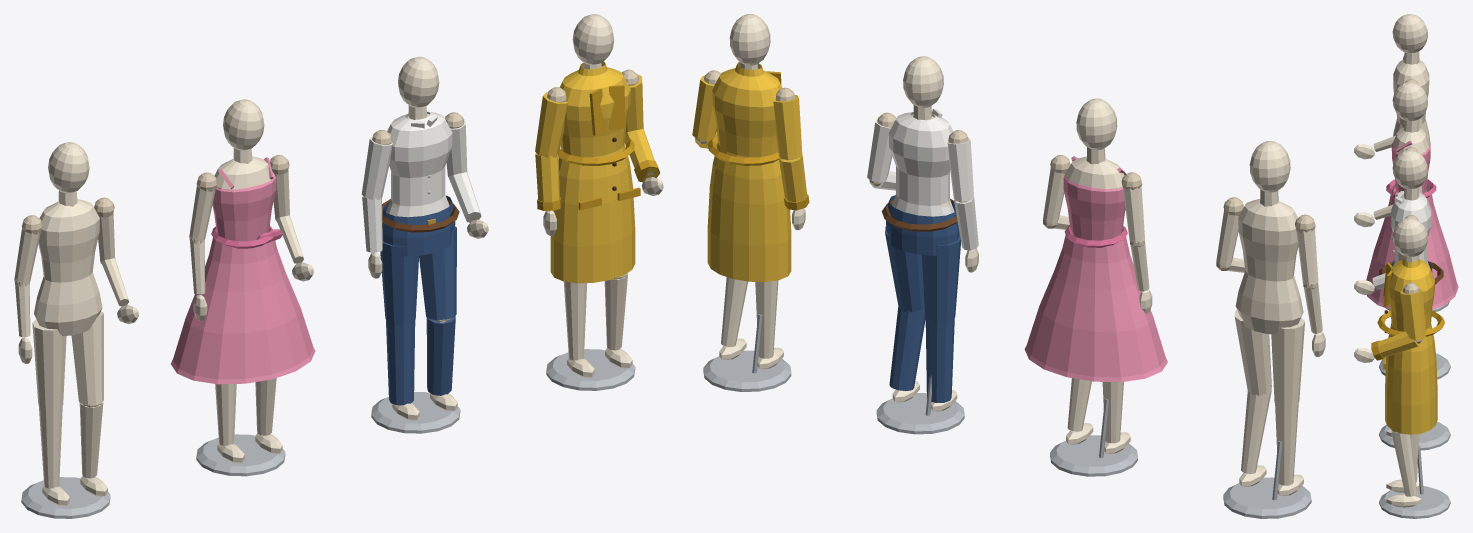
File: harbor_mannequin_v01.glb
3 views of the same model, side by side, from view 1: azimuth 30°, elevation 25°; view 2: azimuth 150°, elevation 25°; view 3: azimuth 270°, elevation 25° (orthographic). The views are drawn at different scales.
Parts seen in each view (by area): view 1: mannequin_dress, mannequin_coat, mannequin_jeans, mannequin; view 2: mannequin_dress, mannequin_coat, mannequin_jeans, mannequin; view 3: mannequin_coat, mannequin_dress, mannequin_jeans, mannequin.
Part boxes in pixels (<box>): mannequin_dress: <box>171,99,315,476</box>; mannequin_coat: <box>535,14,663,390</box>; mannequin_jeans: <box>361,56,488,433</box>; mannequin: <box>14,142,138,518</box>; mannequin_dress: <box>1024,98,1167,476</box>; mannequin_coat: <box>692,14,809,391</box>; mannequin_jeans: <box>867,56,978,434</box>; mannequin: <box>1216,141,1325,518</box>; mannequin_coat: <box>1354,217,1450,518</box>; mannequin_dress: <box>1354,82,1458,379</box>; mannequin_jeans: <box>1354,150,1450,450</box>; mannequin: <box>1354,14,1449,311</box>.
Bounding box in the file's own units: 3.24 × 1.76 × 0.5841.
